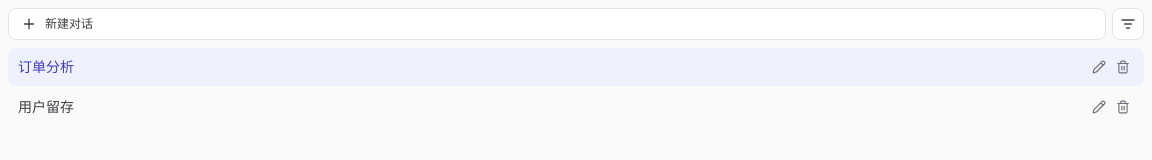
Test: ConversationSidebar filter › replaces the new-chat button with a title search and filters on Enter
Expected: the text "订单分析" is shown, [18,58,74,75]
Expected: the text "用户留存" is shown, [18,98,74,115]
Click the button named "筛选对话" at (1128,24), box [1112,8,1144,40]
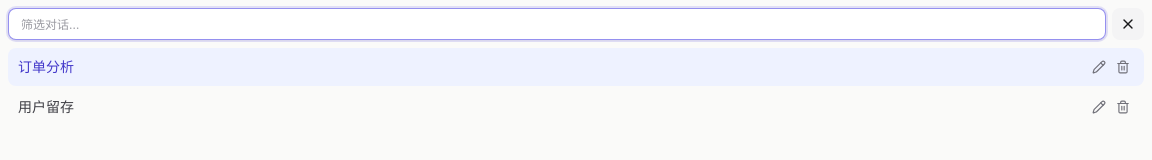
Result: the button "新建对话" is gone
Type "订单" into the field with placeholder "筛选对话…" at (557,24), box [8,8,1106,40]
Then press Enter
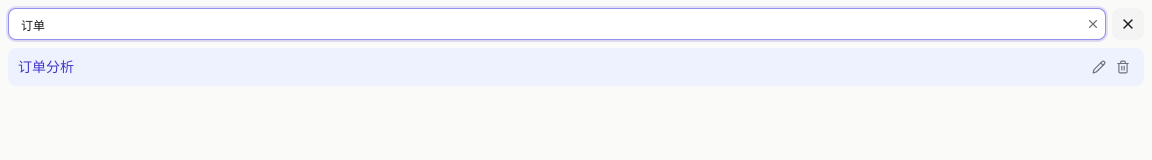
Expected: the text "订单分析" is shown, [18,58,74,75]
Result: the button "用户留存" is gone
